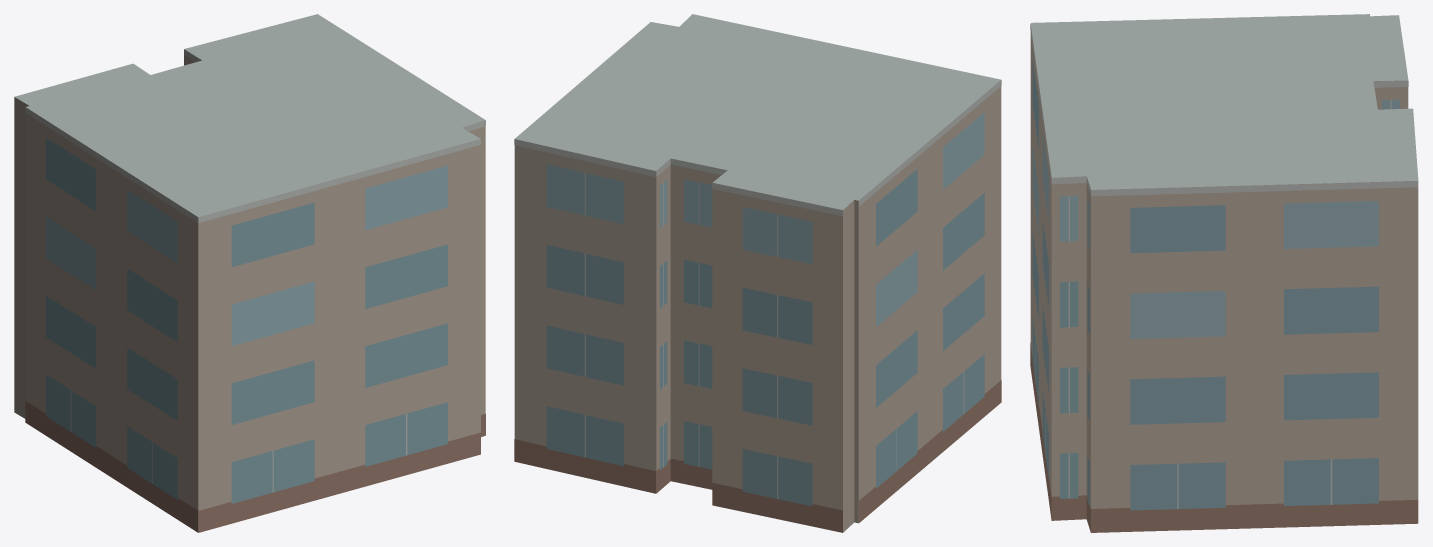
File: survey-upis-32724088.glb
3 renders of one model, left to right at view 1: azimuth 30°, elevation 25°; view 2: azimuth 150°, elevation 25°; view 3: azimuth 270°, elevation 25°, orthographic. The views are drawn at different scales.
Parts seen in each view (by area): view 1: survey-upis-32724088.tmp; view 2: survey-upis-32724088.tmp; view 3: survey-upis-32724088.tmp.
Part boxes in pixels (x1,y1,x2,y2): survey-upis-32724088.tmp: [14, 14, 485, 532]; survey-upis-32724088.tmp: [514, 14, 1001, 532]; survey-upis-32724088.tmp: [1030, 14, 1418, 532].
Size of the model in its own units: 14.21 by 12.9 by 13.24.
